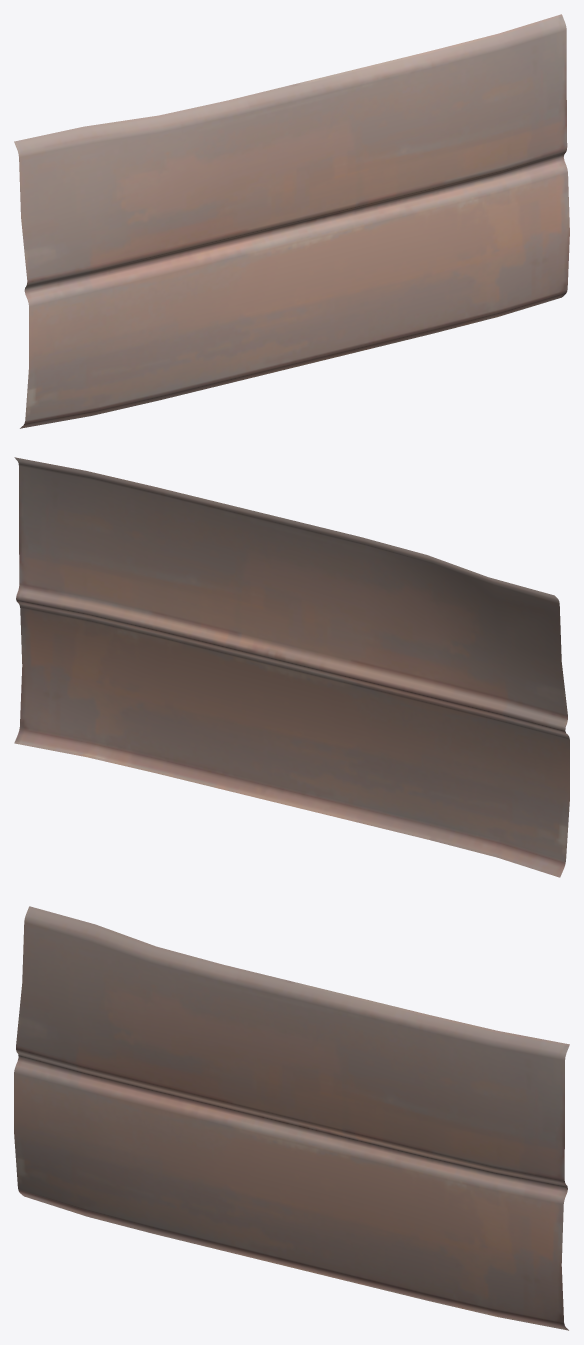
Rendered from props_2fort_roof_metal001.glb.
3 renders of one model, top to bottom at view 1: azimuth 30°, elevation 25°; view 2: azimuth 150°, elevation 25°; view 3: azimuth 330°, elevation 25°, orthographic.
Visible parts, largest first — view 1: models/props_2fort/roof_metal001; view 2: models/props_2fort/roof_metal001; view 3: models/props_2fort/roof_metal001.
Part boxes in pixels (box(x1,y1,x2,y2)): models/props_2fort/roof_metal001: box(14, 14, 569, 428); models/props_2fort/roof_metal001: box(14, 457, 569, 877); models/props_2fort/roof_metal001: box(14, 906, 569, 1330).
Size of the model in its own units: 128 by 64 by 6.63.
Materials: 1 (1 with a texture image).
